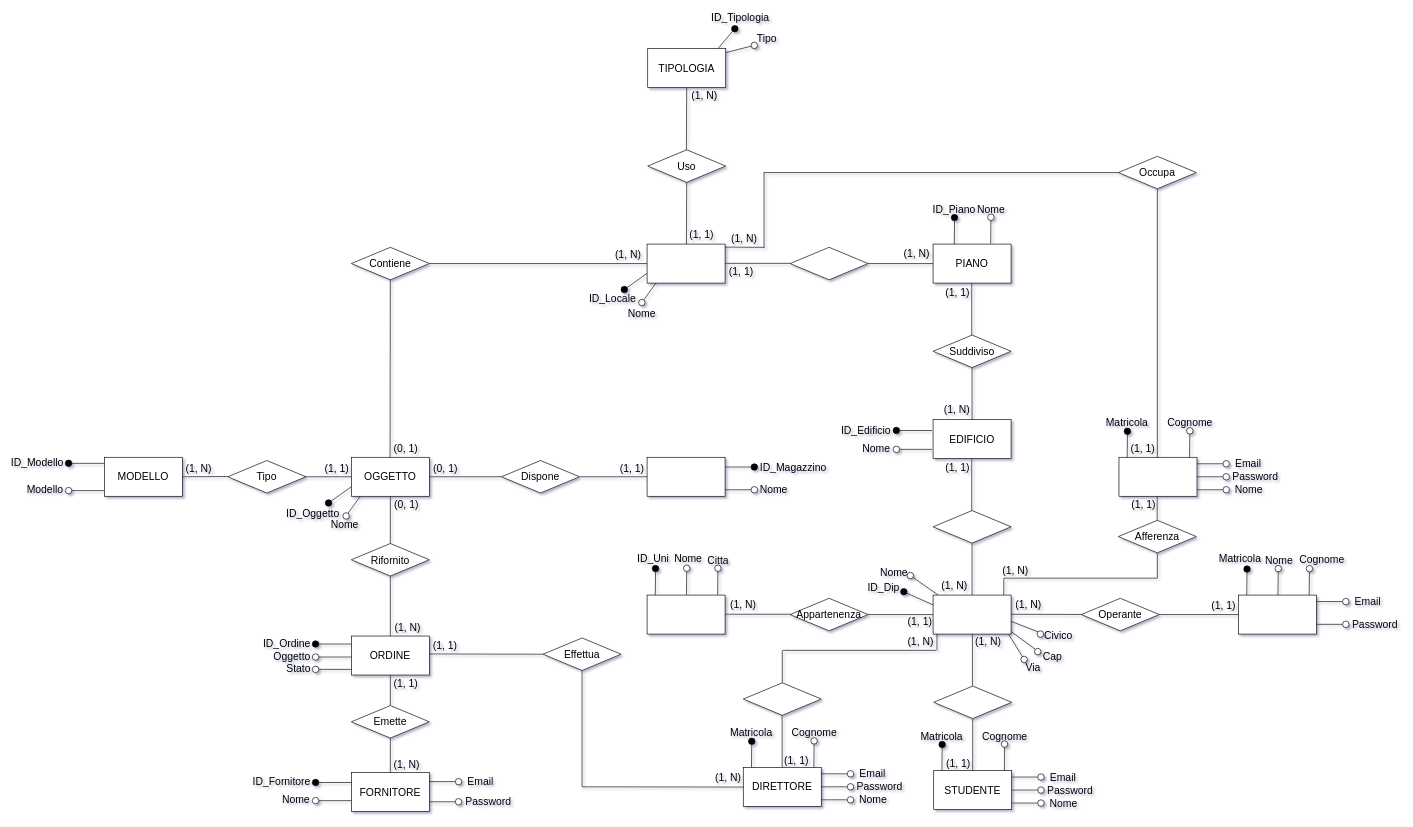
Some shapes in this 1413 by 827 pixel diagram are drawn without their labels. Each missing label, with the box of its shape:
DIPARTIMENTO: (932, 594, 1011, 634)
DOCENTE: (1118, 457, 1197, 496)
Formato: (932, 510, 1011, 543)
Gestisce: (743, 682, 821, 715)
Immatricolato: (933, 685, 1012, 719)
LOCALE: (646, 243, 725, 283)
MAGAZZINO: (646, 457, 725, 496)
PERSONALE: (1238, 594, 1317, 634)
Presenza: (789, 247, 868, 280)
UNIVERSITA: (646, 594, 725, 634)
